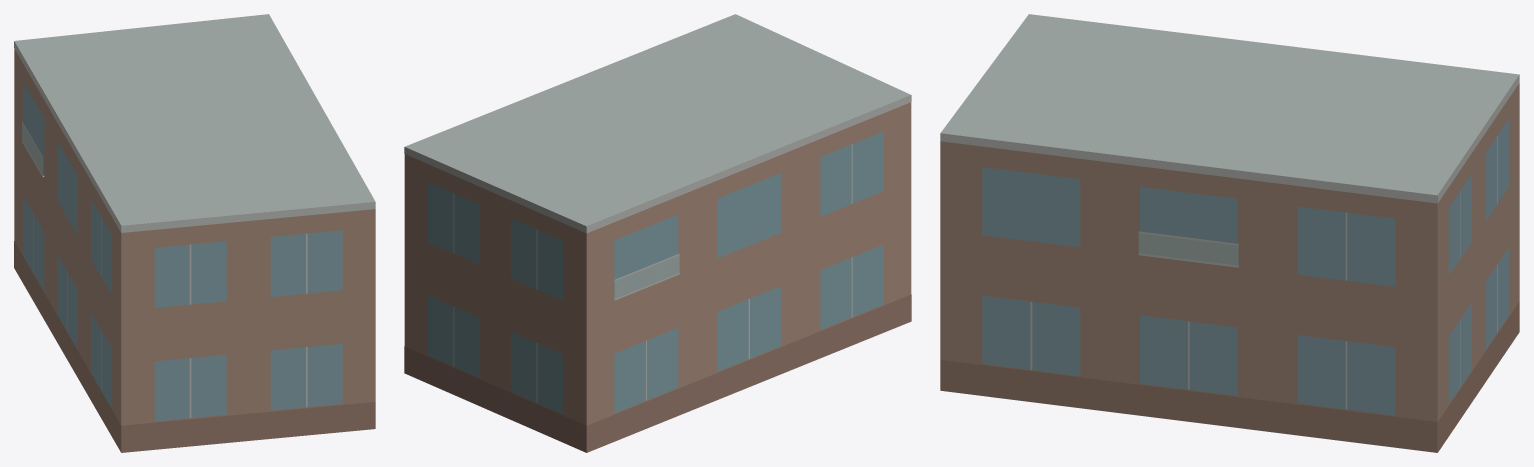
File: survey-upis-32905520.glb
3 renders of one model, left to right at view 1: azimuth 30°, elevation 25°; view 2: azimuth 150°, elevation 25°; view 3: azimuth 270°, elevation 25°, orthographic. The views are drawn at different scales.
Parts seen in each view (by area): view 1: survey-upis-32905520.tmp; view 2: survey-upis-32905520.tmp; view 3: survey-upis-32905520.tmp.
Boxes of the visible parts, x1,y1,x2,y2 form: survey-upis-32905520.tmp: (14,14,375,452); survey-upis-32905520.tmp: (404,14,911,452); survey-upis-32905520.tmp: (940,14,1519,452).
Size of the model in its own units: 11.8 by 7.8 by 15.92.
